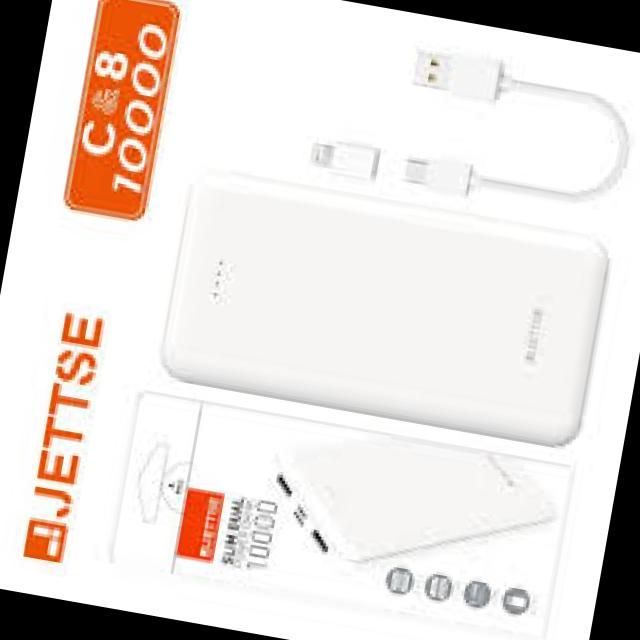portable-charger: (149, 160, 617, 452), (266, 414, 562, 590)
